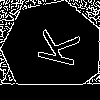K: (27, 25, 81, 69)
